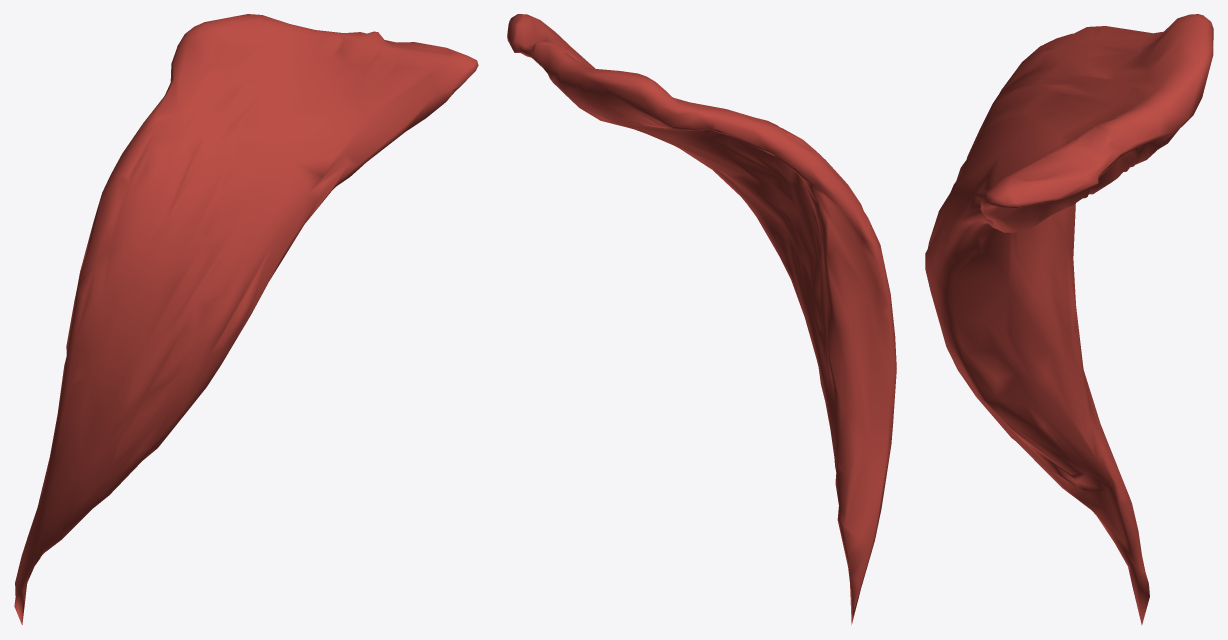
The model's file is musculos-clavicular-part-of-deltoid-muscle-r.glb.
3 views of the same model, side by side, from view 1: azimuth 30°, elevation 25°; view 2: azimuth 150°, elevation 25°; view 3: azimuth 270°, elevation 25° (orthographic). The views are drawn at different scales.
Visible parts, largest first — view 1: Clavicular part of deltoid muscle.r; view 2: Clavicular part of deltoid muscle.r; view 3: Clavicular part of deltoid muscle.r.
Part boxes in pixels (x1,y1,x2,y2): Clavicular part of deltoid muscle.r: (14,14,478,624); Clavicular part of deltoid muscle.r: (507,14,896,624); Clavicular part of deltoid muscle.r: (925,14,1213,625).
Bounding box in the file's own units: 0.126 × 0.1555 × 0.0546.
